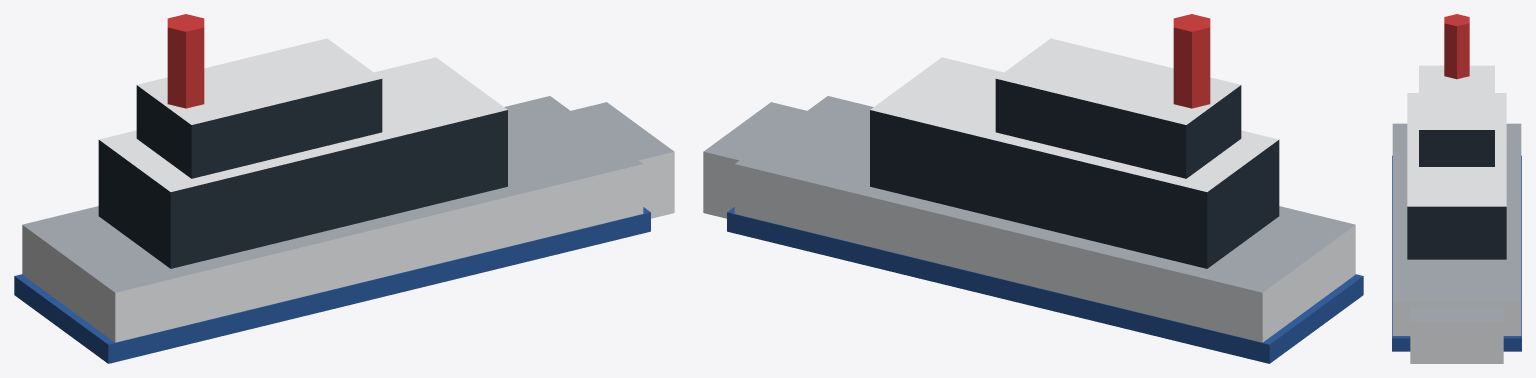
File: boat_ferry.glb
3 views of the same model, side by side, from view 1: azimuth 30°, elevation 25°; view 2: azimuth 150°, elevation 25°; view 3: azimuth 270°, elevation 25° (orthographic). The views are drawn at different scales.
Parts seen in each view (by area): view 1: boat_ferry; view 2: boat_ferry; view 3: boat_ferry.
Boxes of the visible parts, x1,y1,x2,y2 form: boat_ferry: [14, 14, 674, 363]; boat_ferry: [703, 14, 1363, 363]; boat_ferry: [1392, 14, 1521, 363].
Size of the model in its own units: 0.79 by 0.36 by 0.222.
